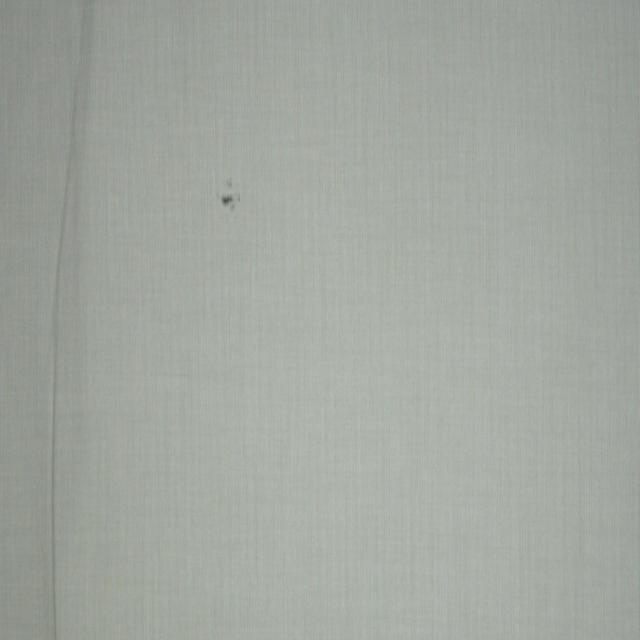dirty: (220, 194, 234, 206)
